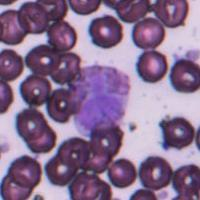E: (70, 63, 130, 132)
